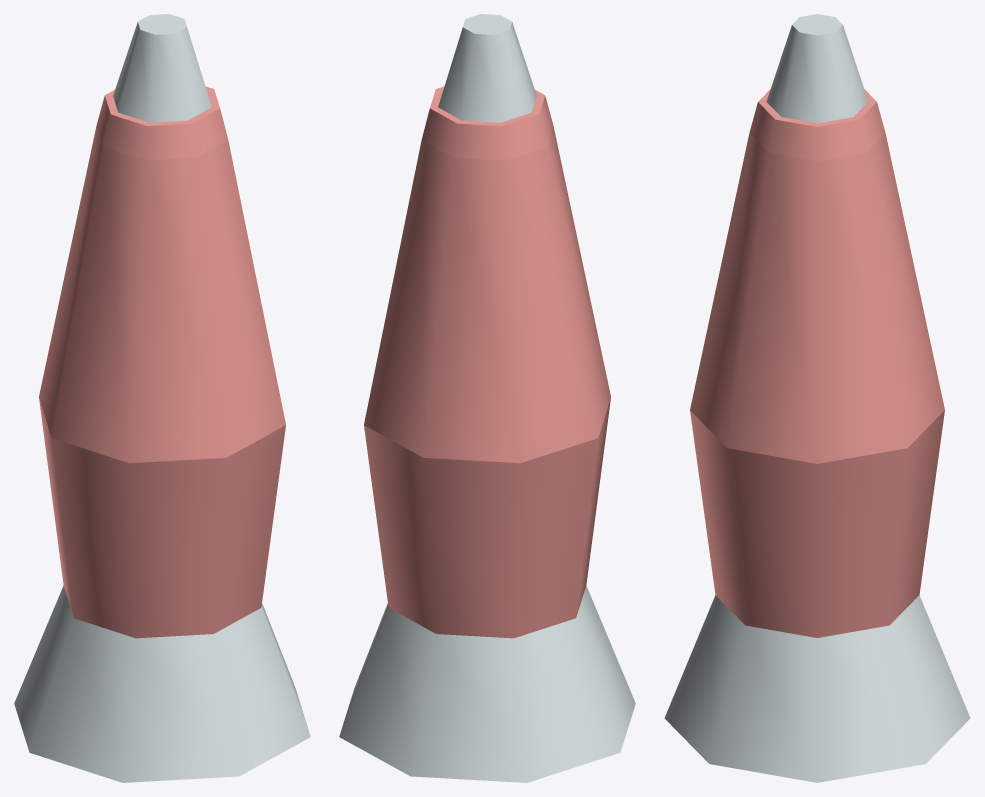
File: lavaLamp.glb
3 views of the same model, side by side, from view 1: azimuth 30°, elevation 25°; view 2: azimuth 150°, elevation 25°; view 3: azimuth 270°, elevation 25° (orthographic).
Visible parts, largest first — view 1: lavaLamp; view 2: lavaLamp; view 3: lavaLamp.
Part boxes in pixels (x1=…): lavaLamp: x1=14, y1=14, x2=310, y2=782; lavaLamp: x1=339, y1=14, x2=635, y2=782; lavaLamp: x1=664, y1=14, x2=970, y2=782.
Size of the model in its own units: 0.09 by 0.225 by 0.09.
